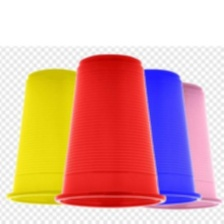glass: (51, 50, 169, 211), (4, 62, 99, 206), (136, 79, 223, 215), (126, 67, 204, 208)
